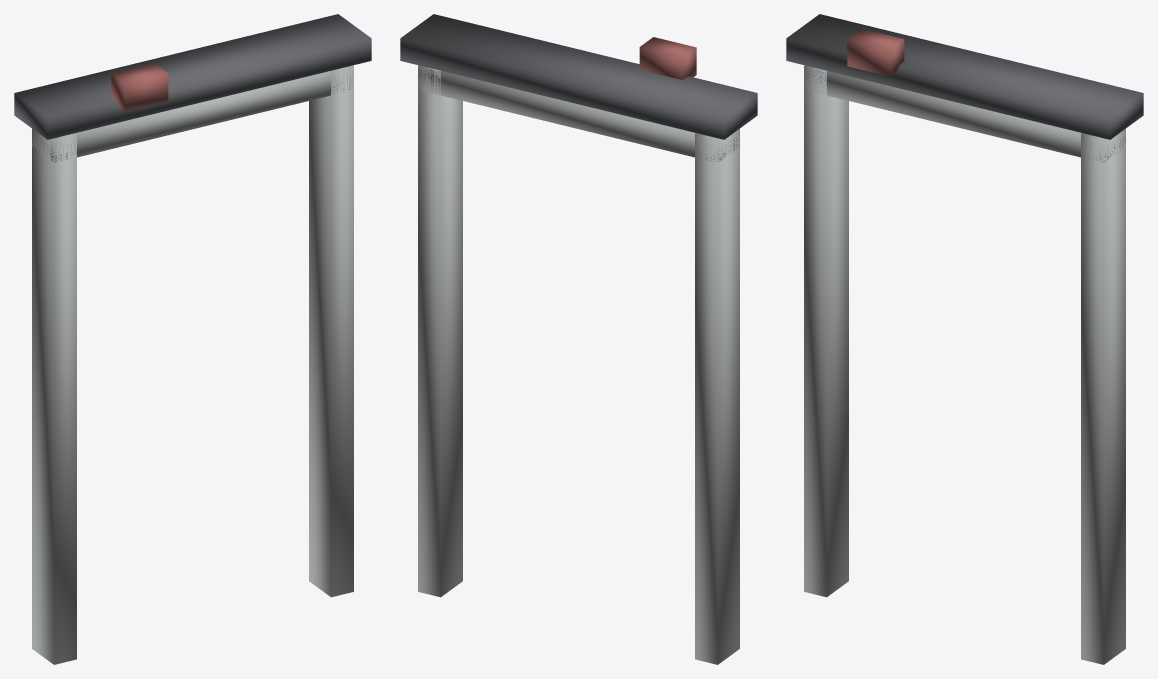
Rendered from doorway_fire_rated_w106_h200_d16.glb.
The picture shows the model from 3 angles, left to right: view 1: azimuth 30°, elevation 25°; view 2: azimuth 150°, elevation 25°; view 3: azimuth 330°, elevation 25°; orthographic projection.
Visible parts, largest first — view 1: world; view 2: world; view 3: world.
Part boxes in pixels (x1=…): world: x1=14, y1=14, x2=371, y2=664; world: x1=400, y1=14, x2=757, y2=664; world: x1=786, y1=14, x2=1143, y2=664.
Bounding box in the file's own units: 1.35 × 2.3 × 0.3.
